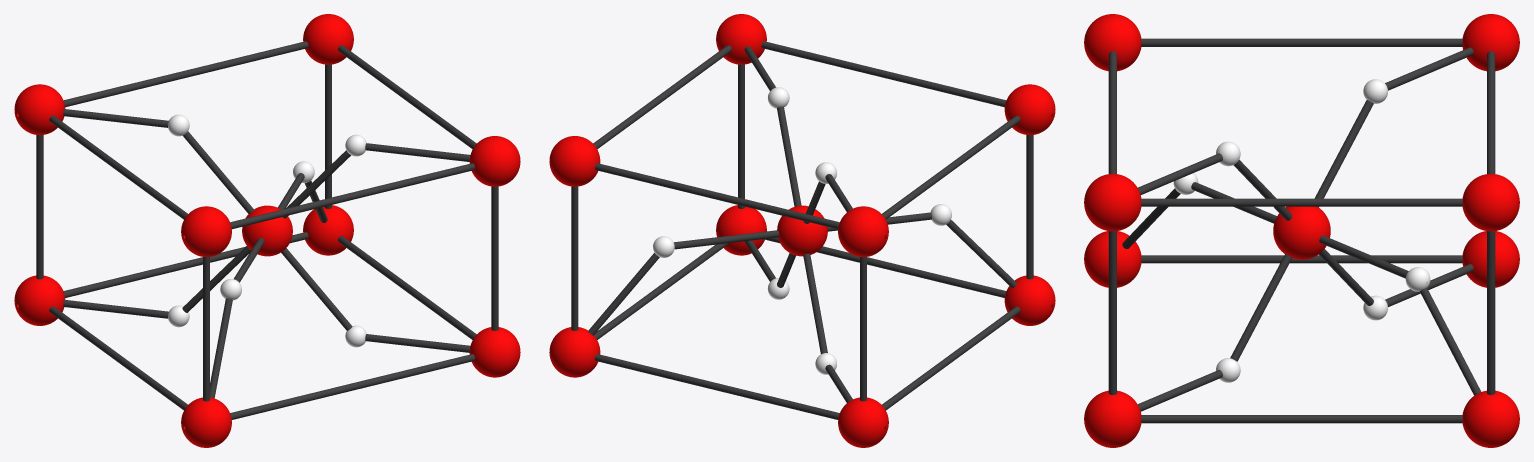
File: rutile-tio2.glb
3 renders of one model, left to right at view 1: azimuth 30°, elevation 25°; view 2: azimuth 150°, elevation 25°; view 3: azimuth 270°, elevation 25°, orthographic. The views are drawn at different scales.
Visible parts, largest first — view 1: Mirror4[2] - Part, Surface-Sweep3 - Part, Mirror4[5] - Part, LPattern1[2] - Part, Mirror4[4] - Part, LPattern1[3] - Part, Mirror4[1] - Part, Mirror4[3] - Part, Surface-Revolve1 - Part, LPattern1[1] - Part, Surface-Sweep4 - Part, Surface-Revolve4 - Part (+10 smaller); view 2: Mirror4[2] - Part, Surface-Sweep3 - Part, Surface-Sweep4 - Part, Mirror4[1] - Part, Surface-Revolve1 - Part, Mirror4[3] - Part, LPattern1[1] - Part, Mirror4[5] - Part, LPattern1[2] - Part, Mirror4[4] - Part, Surface-Revolve4 - Part, LPattern1[3] - Part (+6 smaller); view 3: Mirror4[2] - Part, Surface-Sweep3 - Part, Surface-Sweep4 - Part, Mirror4[3] - Part, Mirror4[4] - Part, LPattern1[1] - Part, LPattern1[3] - Part, Mirror4[5] - Part, Mirror4[1] - Part, Surface-Revolve4 - Part, Surface-Revolve1 - Part, LPattern1[2] - Part (+13 smaller).
Boxes of the visible parts, bbox=[...] form: Mirror4[2] - Part: bbox=[49, 41, 476, 229]; Surface-Sweep3 - Part: bbox=[49, 232, 476, 419]; Mirror4[5] - Part: bbox=[181, 206, 231, 257]; LPattern1[2] - Part: bbox=[181, 397, 231, 447]; Mirror4[4] - Part: bbox=[469, 136, 520, 186]; LPattern1[3] - Part: bbox=[469, 327, 520, 377]; Mirror4[1] - Part: bbox=[14, 84, 65, 135]; Mirror4[3] - Part: bbox=[303, 14, 353, 64]; Surface-Revolve1 - Part: bbox=[14, 275, 65, 325]; LPattern1[1] - Part: bbox=[303, 205, 353, 255]; Surface-Sweep4 - Part: bbox=[210, 173, 327, 398]; Surface-Revolve4 - Part: bbox=[242, 205, 292, 256]; Mirror4[2] - Part: bbox=[593, 41, 1020, 229]; Surface-Sweep3 - Part: bbox=[594, 237, 1020, 419]; Surface-Sweep4 - Part: bbox=[588, 212, 1016, 335]; Mirror4[1] - Part: bbox=[838, 206, 888, 257]; Surface-Revolve1 - Part: bbox=[838, 397, 888, 447]; Mirror4[3] - Part: bbox=[549, 136, 600, 186]; LPattern1[1] - Part: bbox=[549, 327, 600, 377]; Mirror4[5] - Part: bbox=[1004, 84, 1055, 135]; LPattern1[2] - Part: bbox=[1004, 275, 1055, 325]; Mirror4[4] - Part: bbox=[716, 14, 766, 64]; Surface-Revolve4 - Part: bbox=[777, 205, 827, 256]; LPattern1[3] - Part: bbox=[716, 205, 766, 255]; Mirror4[2] - Part: bbox=[1108, 38, 1495, 206]; Surface-Sweep3 - Part: bbox=[1141, 255, 1462, 423]; Surface-Sweep4 - Part: bbox=[1122, 182, 1481, 395]; Mirror4[3] - Part: bbox=[1462, 174, 1519, 231]; Mirror4[4] - Part: bbox=[1084, 174, 1141, 231]; LPattern1[1] - Part: bbox=[1462, 390, 1519, 447]; LPattern1[3] - Part: bbox=[1084, 390, 1141, 447]; Mirror4[5] - Part: bbox=[1084, 14, 1141, 71]; Mirror4[1] - Part: bbox=[1462, 14, 1519, 71]; Surface-Revolve4 - Part: bbox=[1273, 206, 1330, 259]; Surface-Revolve1 - Part: bbox=[1462, 231, 1519, 287]; LPattern1[2] - Part: bbox=[1084, 231, 1141, 287].
Size of the model in its own units: 0.1343 by 0.0914 by 0.1344.
